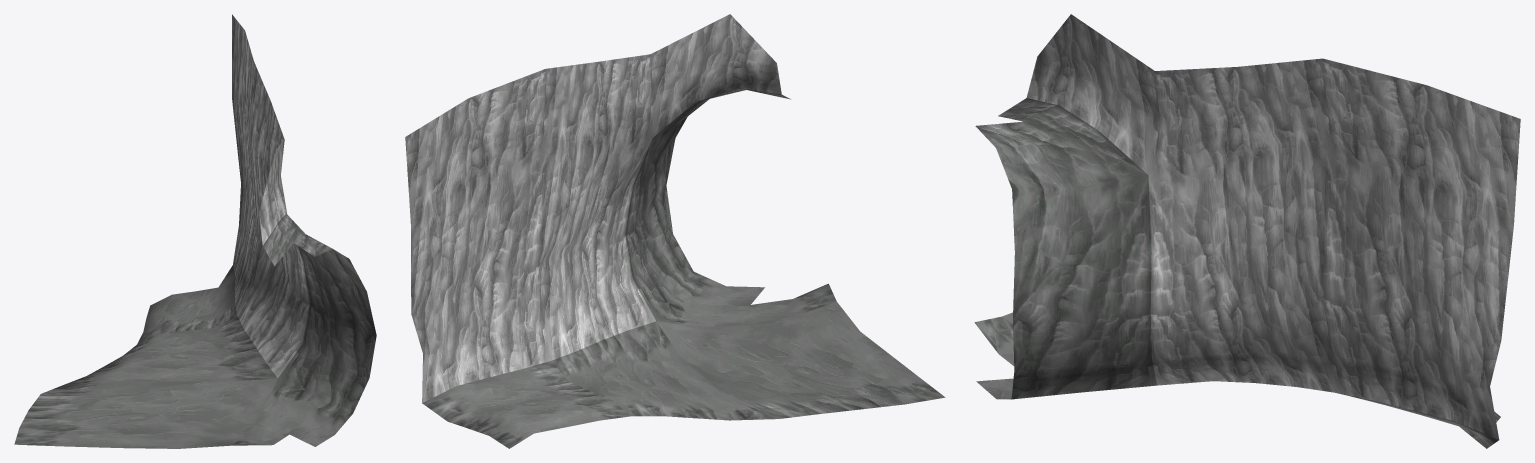
The model's file is SWORDLIGHT20_PS-AREA02-03TRANS_04.fbx.
3 renders of one model, left to right at view 1: azimuth 30°, elevation 25°; view 2: azimuth 150°, elevation 25°; view 3: azimuth 270°, elevation 25°, orthographic. The views are drawn at different scales.
Visible parts, largest first — view 1: SWORDLIGHT20_PS-AREA02-03TRANS_04; view 2: SWORDLIGHT20_PS-AREA02-03TRANS_04; view 3: SWORDLIGHT20_PS-AREA02-03TRANS_04.
Part boxes in pixels (<box>): SWORDLIGHT20_PS-AREA02-03TRANS_04: <box>14,14,376,448</box>; SWORDLIGHT20_PS-AREA02-03TRANS_04: <box>405,14,945,448</box>; SWORDLIGHT20_PS-AREA02-03TRANS_04: <box>974,14,1520,448</box>.
Bounding box in the file's own units: 208768 × 160548 × 208796.
5 materials, 5 textured.
